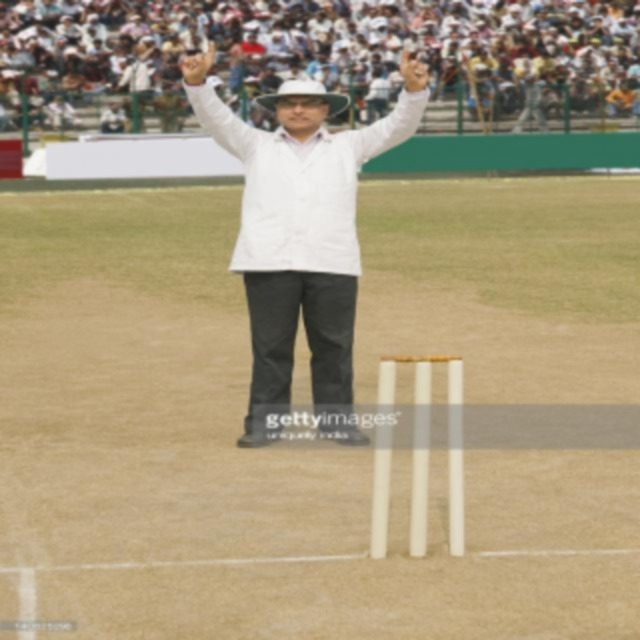Six: (164, 30, 448, 449)
